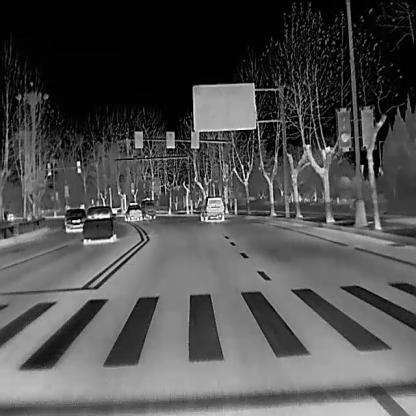car: (80, 204, 116, 244), (62, 207, 86, 232), (200, 195, 224, 220), (123, 201, 142, 220), (140, 196, 156, 218), (3, 209, 14, 219)
